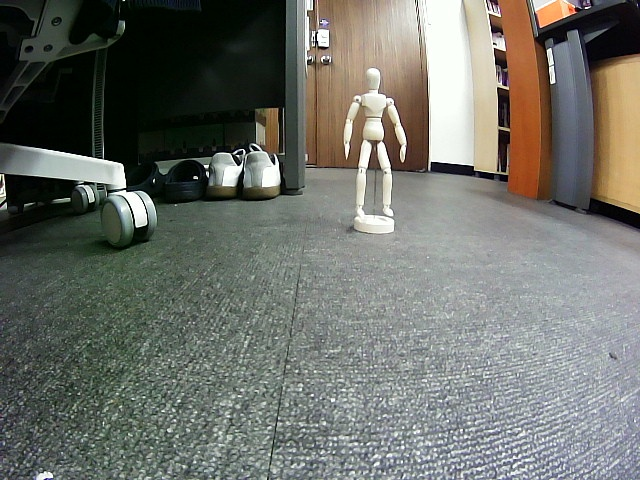person: (342, 68, 407, 221)
